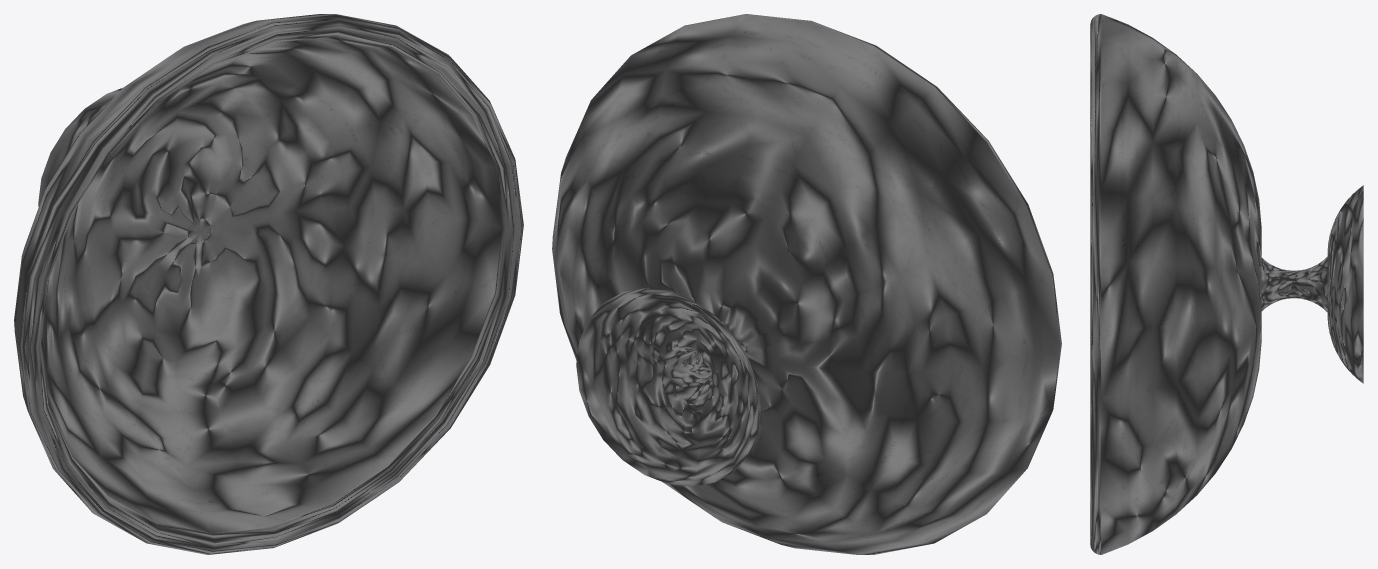
The model's file is model_align.obj.
The picture shows the model from 3 angles, left to right: view 1: azimuth 30°, elevation 25°; view 2: azimuth 150°, elevation 25°; view 3: azimuth 270°, elevation 25°; orthographic projection. The views are drawn at different scales.
Bounding box in the file's own units: 0.1493 × 0.1493 × 0.0751.
Materials: 1 (1 with a texture image).
